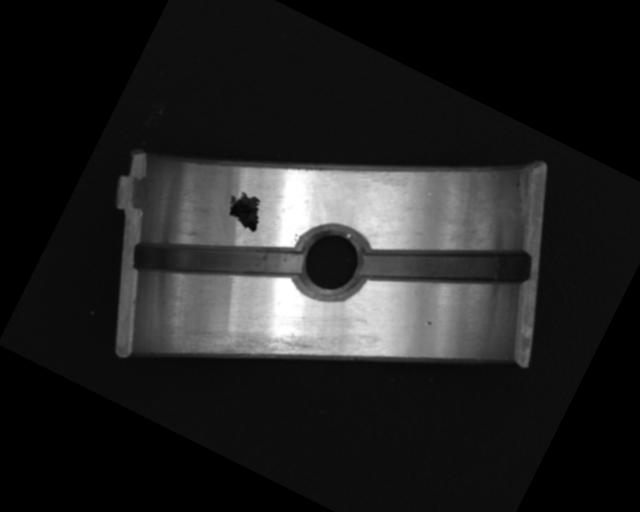blot: (218, 186, 271, 236)
bruise: (422, 318, 434, 329)
gap: (357, 191, 535, 341), (128, 188, 306, 333)
hole: (282, 211, 380, 311)
scratch: (176, 287, 335, 414)
